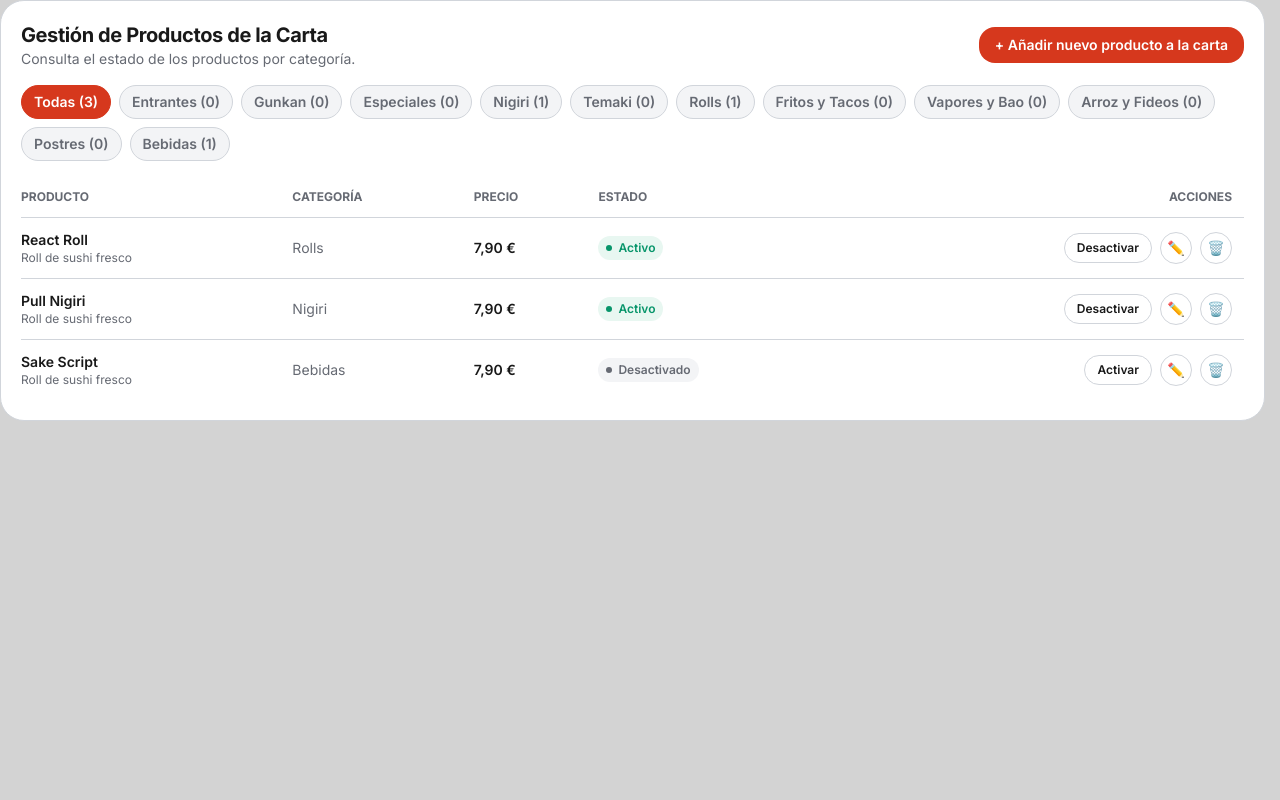
AdminProductsPanel › activating and deactivating › saves the new availability and updates the row after confirming
Click the button "Desactivar" in the row of "React Roll". click: click(1108, 248)
box: [1064,233,1152,263]
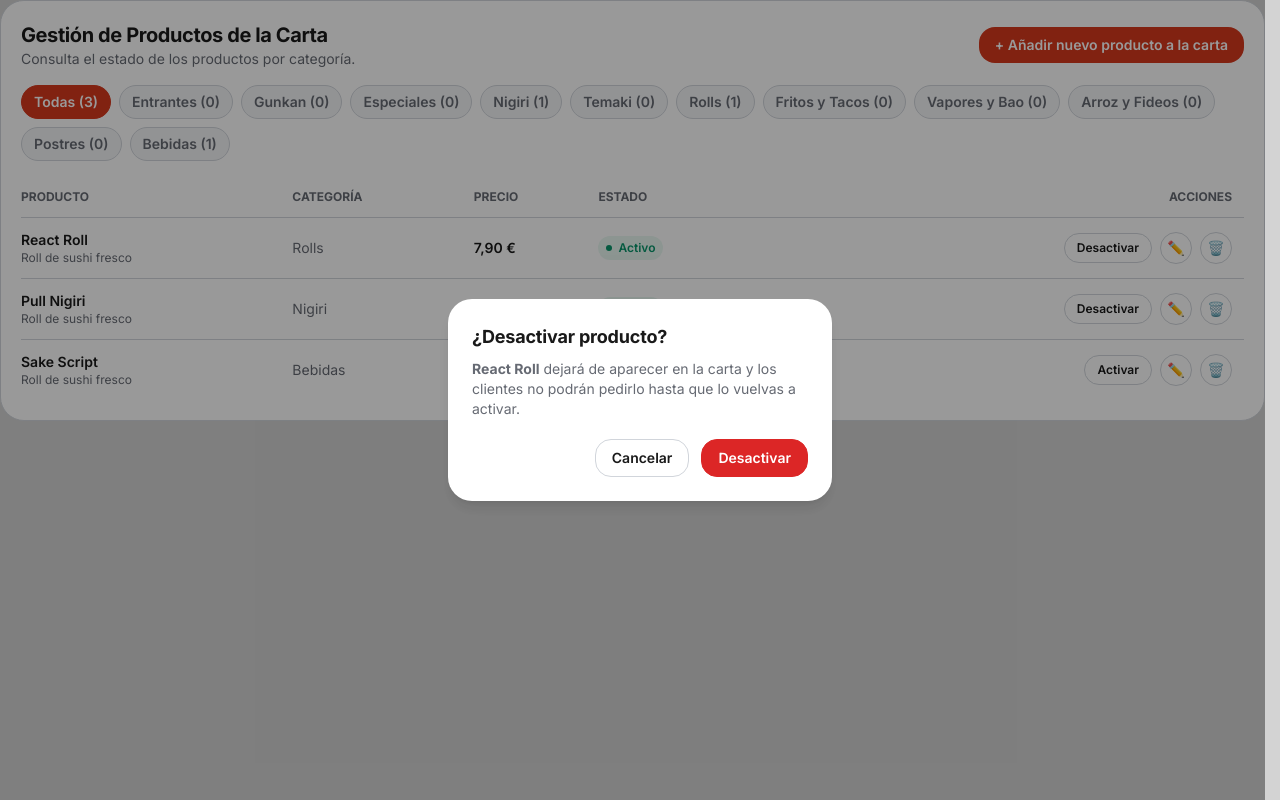
Click the button with class "confirm-dialog__button--danger". click: click(755, 458)
box: [701,439,808,477]
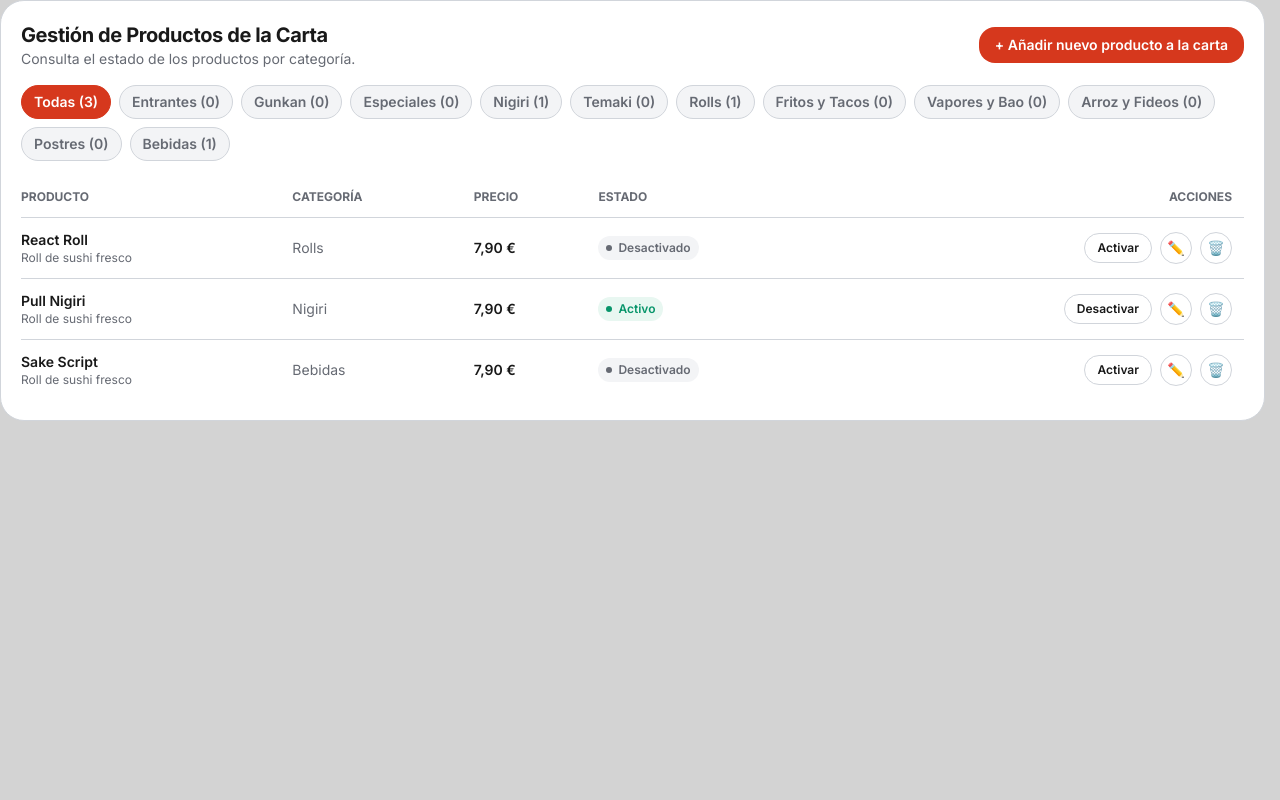
Check: the row that starts with "React Roll" shows "Desactivado", box [618,240,691,255]
Check: the button "Activar" in the row of "React Roll" is shown, box [1084,233,1152,263]
